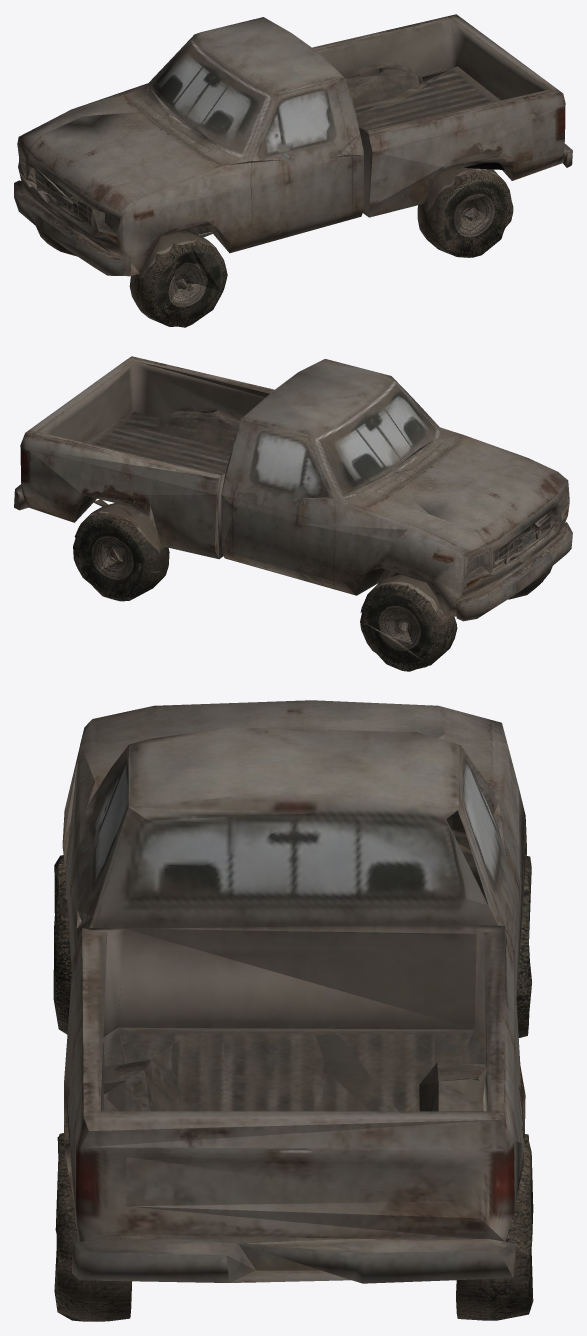
File: car_pickup_light.glb
The picture shows the model from 3 angles, top to bottom: view 1: azimuth 30°, elevation 25°; view 2: azimuth 150°, elevation 25°; view 3: azimuth 270°, elevation 25°; orthographic projection. The views are drawn at different scales.
Parts seen in each view (by area): view 1: output_unwrapped; view 2: output_unwrapped; view 3: output_unwrapped.
Boxes of the visible parts, box(x1,y1,x2,y2) form: output_unwrapped: box(14, 14, 572, 327); output_unwrapped: box(14, 356, 572, 671); output_unwrapped: box(53, 700, 533, 1321).
Bounding box in the file's own units: 5.27 × 2.2 × 2.34.
1 material, 1 textured.
